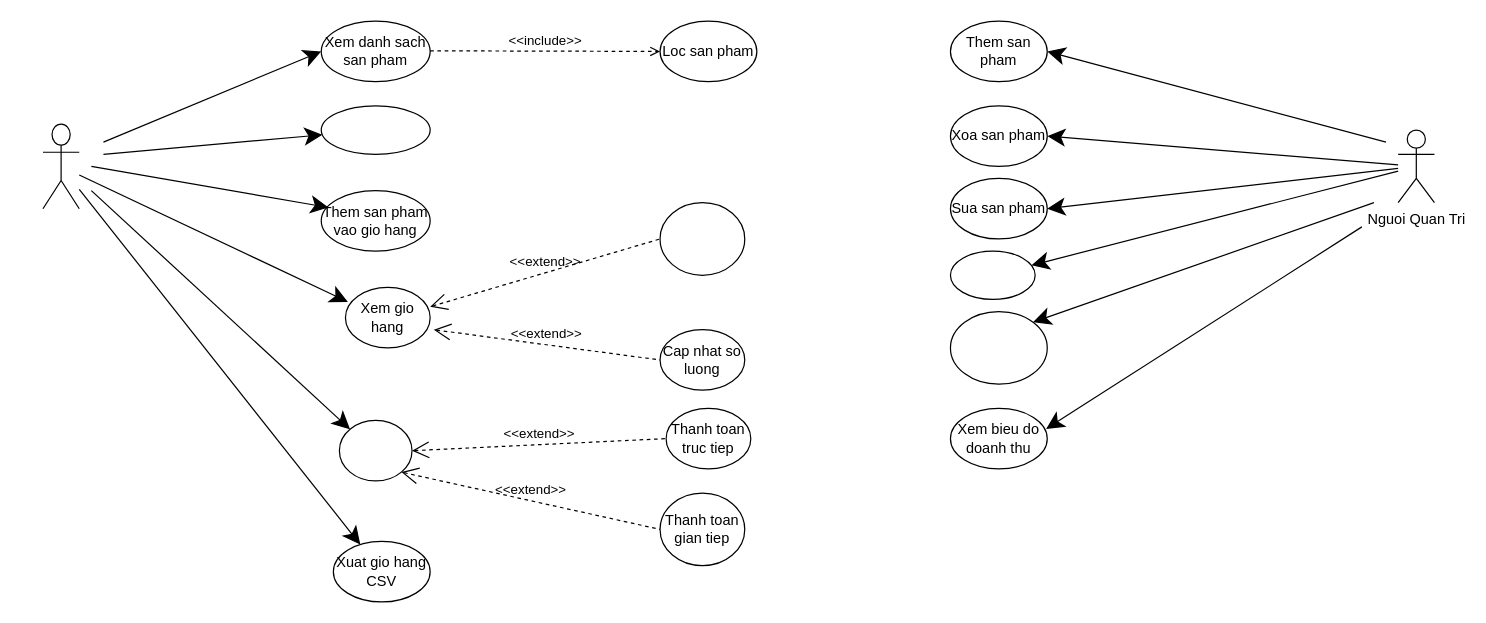
The diagram is 1486 pixels wide and 623 high, and some of its shapes have lost their labels. The centre of each missing label's shape, as x and y in pixels:
Khach Hang: point (60, 166)
Thanh toan: point (375, 450)
Xem bao cao doanh thu: point (998, 347)
Xem chi tiet san pham: point (375, 129)
Xoa san pham khoi gio hang: point (702, 238)
Xuat CSV: point (992, 274)
